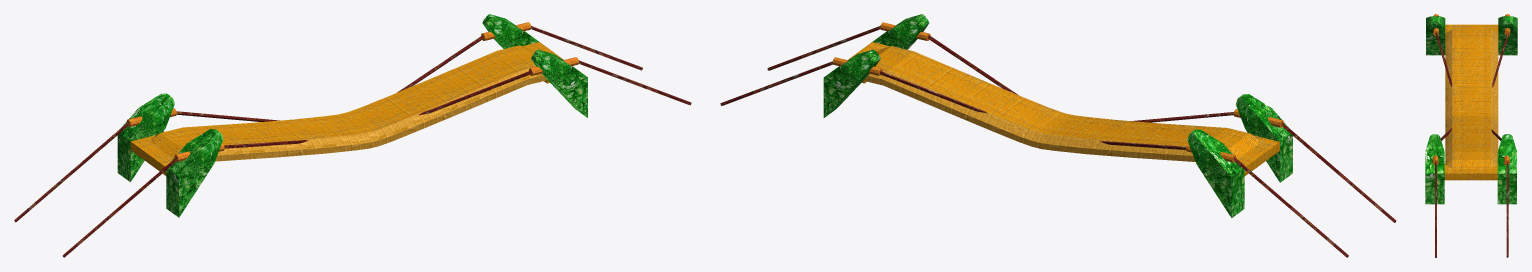
The model's file is brgrope.glb.
3 renders of one model, left to right at view 1: azimuth 30°, elevation 25°; view 2: azimuth 150°, elevation 25°; view 3: azimuth 270°, elevation 25°, orthographic. The views are drawn at different scales.
Parts seen in each view (by area): view 1: brgrope; view 2: brgrope; view 3: brgrope.
Part boxes in pixels (box(x1,y1,x2,y2)): brgrope: box(14, 14, 691, 257); brgrope: box(720, 14, 1396, 257); brgrope: box(1425, 14, 1517, 257).
Bounding box in the file's own units: 56.12 × 7.72 × 9.56.
5 materials, 5 textured.
